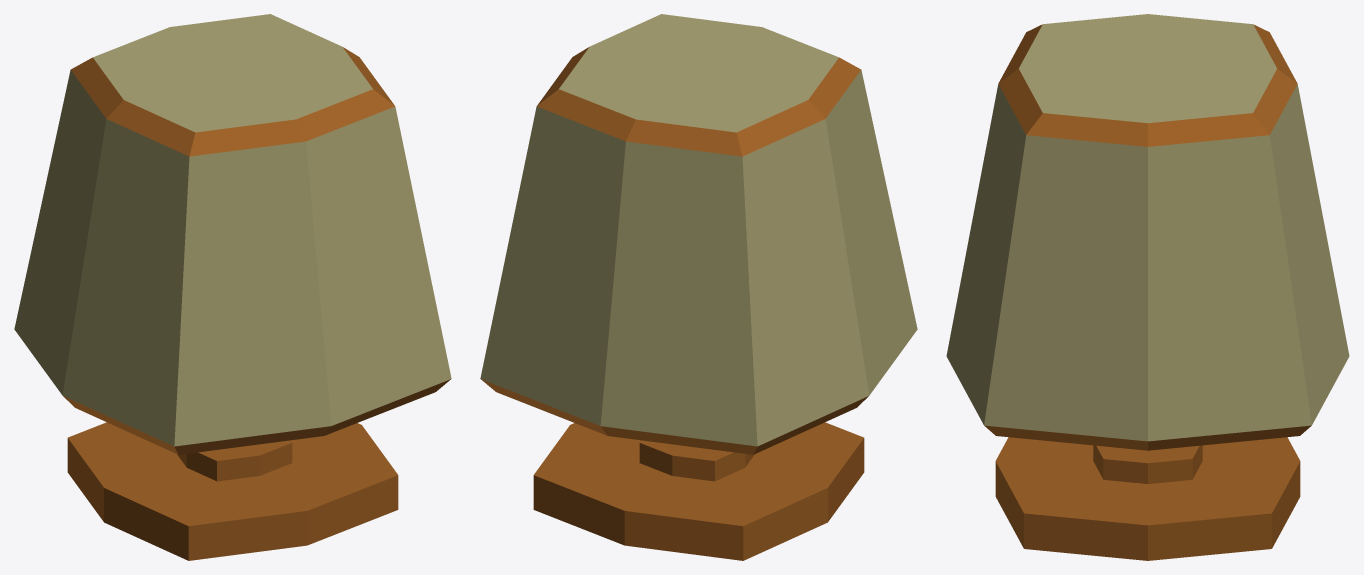
The model's file is Vintage_Nightstand_Lamp_5.fbx.
3 views of the same model, side by side, from view 1: azimuth 30°, elevation 25°; view 2: azimuth 150°, elevation 25°; view 3: azimuth 270°, elevation 25° (orthographic). The views are drawn at different scales.
Parts seen in each view (by area): view 1: Vintage_Nightstand_Lamp_5; view 2: Vintage_Nightstand_Lamp_5; view 3: Vintage_Nightstand_Lamp_5.
Boxes of the visible parts, <box> form: Vintage_Nightstand_Lamp_5: <box>14,14,451,560</box>; Vintage_Nightstand_Lamp_5: <box>480,14,917,560</box>; Vintage_Nightstand_Lamp_5: <box>946,14,1349,560</box>.
Bounding box in the file's own units: 1142 × 1338 × 1142.
